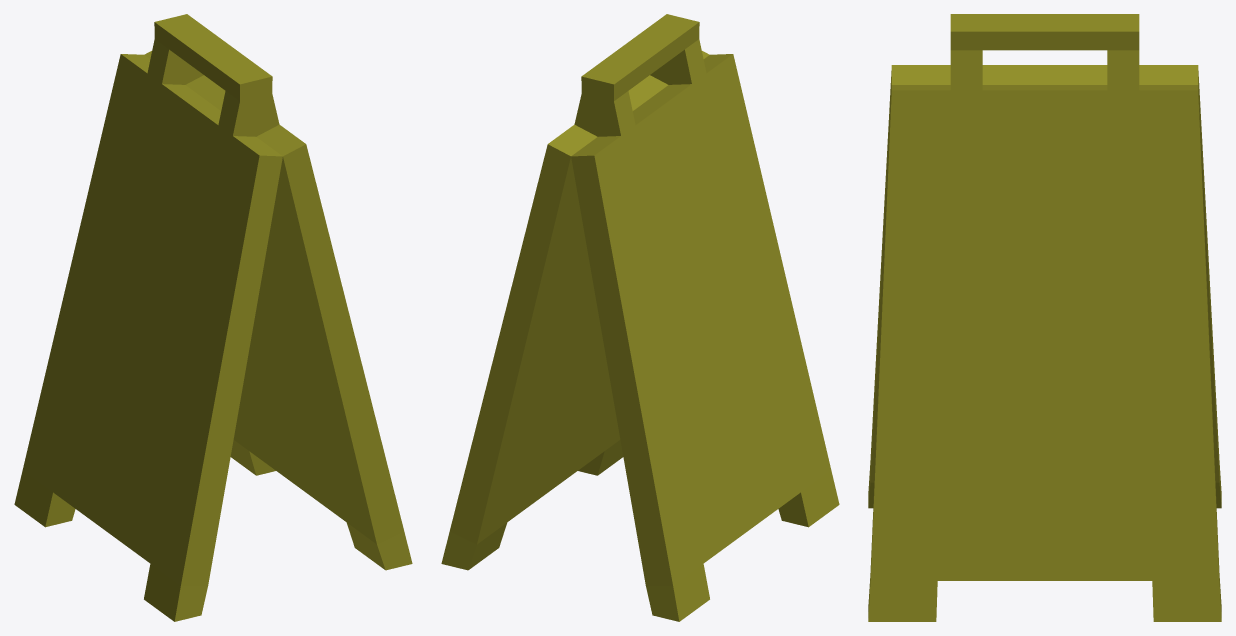
Rendered from worksign.glb.
The picture shows the model from 3 angles, left to right: view 1: azimuth 30°, elevation 25°; view 2: azimuth 150°, elevation 25°; view 3: azimuth 270°, elevation 25°; orthographic projection. The views are drawn at different scales.
Parts seen in each view (by area): view 1: Cube; view 2: Cube; view 3: Cube.
Part boxes in pixels (x1=…): Cube: x1=14, y1=14, x2=412, y2=621; Cube: x1=441, y1=14, x2=839, y2=621; Cube: x1=868, y1=14, x2=1221, y2=621.
Size of the model in its own units: 1.72 by 3.34 by 2.
